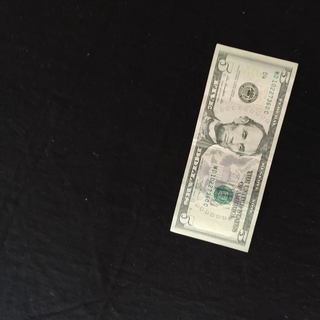5USDFront: (169, 43, 299, 253)
